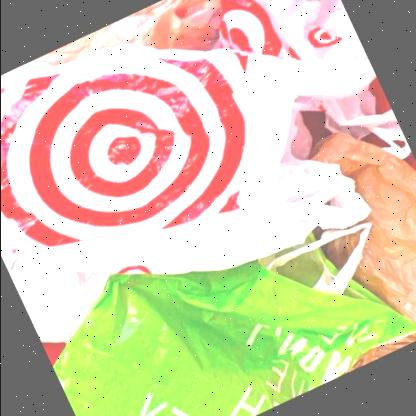Others: (2, 43, 370, 265), (52, 223, 416, 416)
